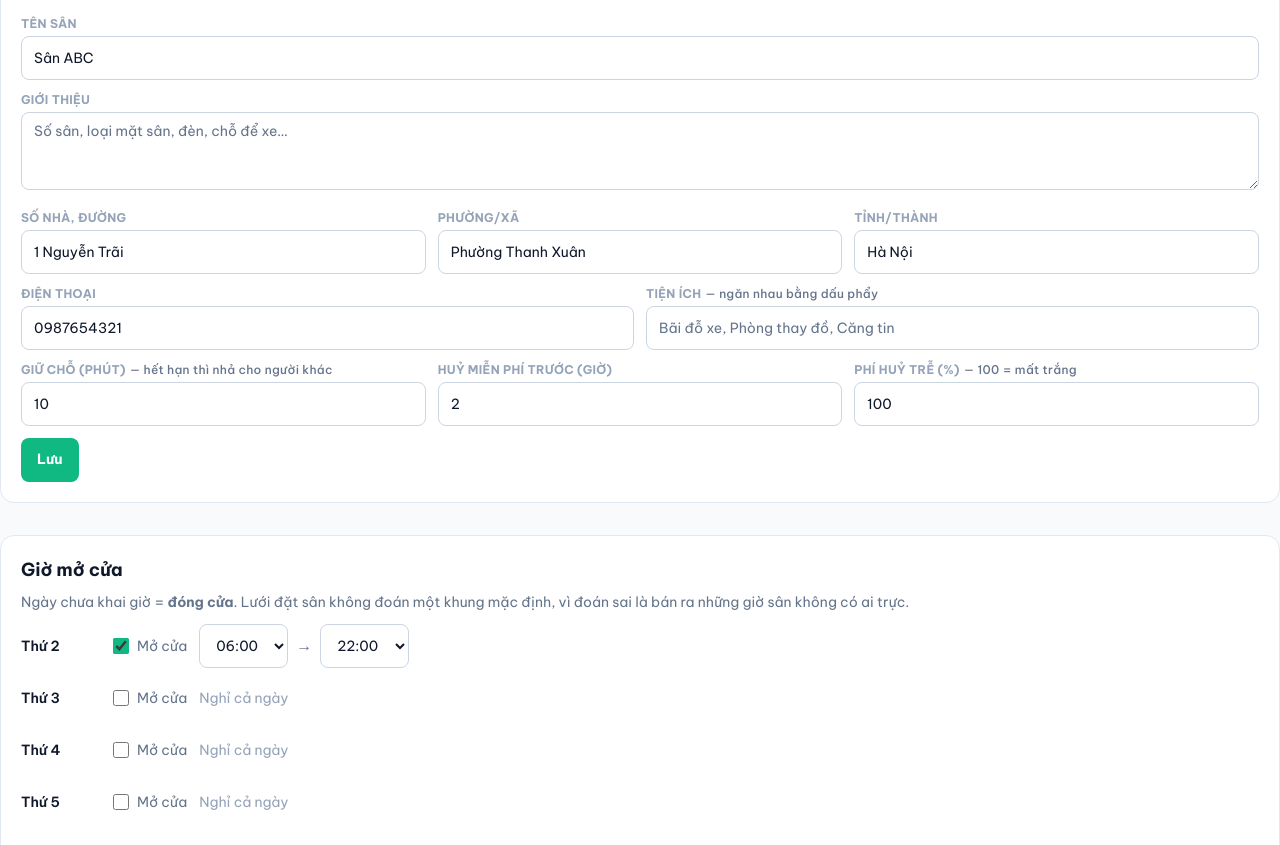
Scenario: giờ mở cửa — ngày chưa khai › lưu giờ báo lỗi thì ngày vừa bật mở cửa vẫn đang mở
Click the checkbox labelled "Mở cửa" next to "Thứ 3" at (121, 698), box [113,690,129,706]
(page scrolled)
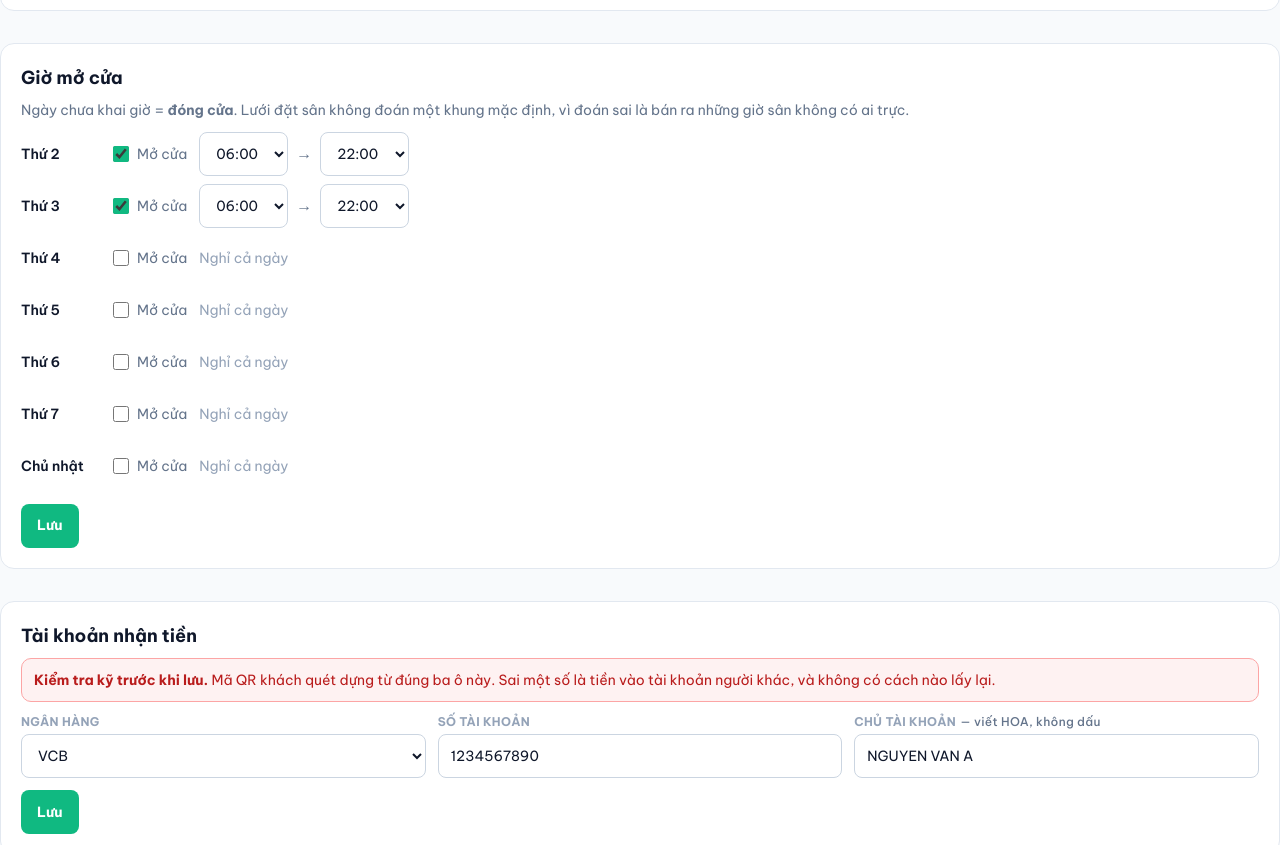
Submit the form "Lưu", box [21,504,78,548]
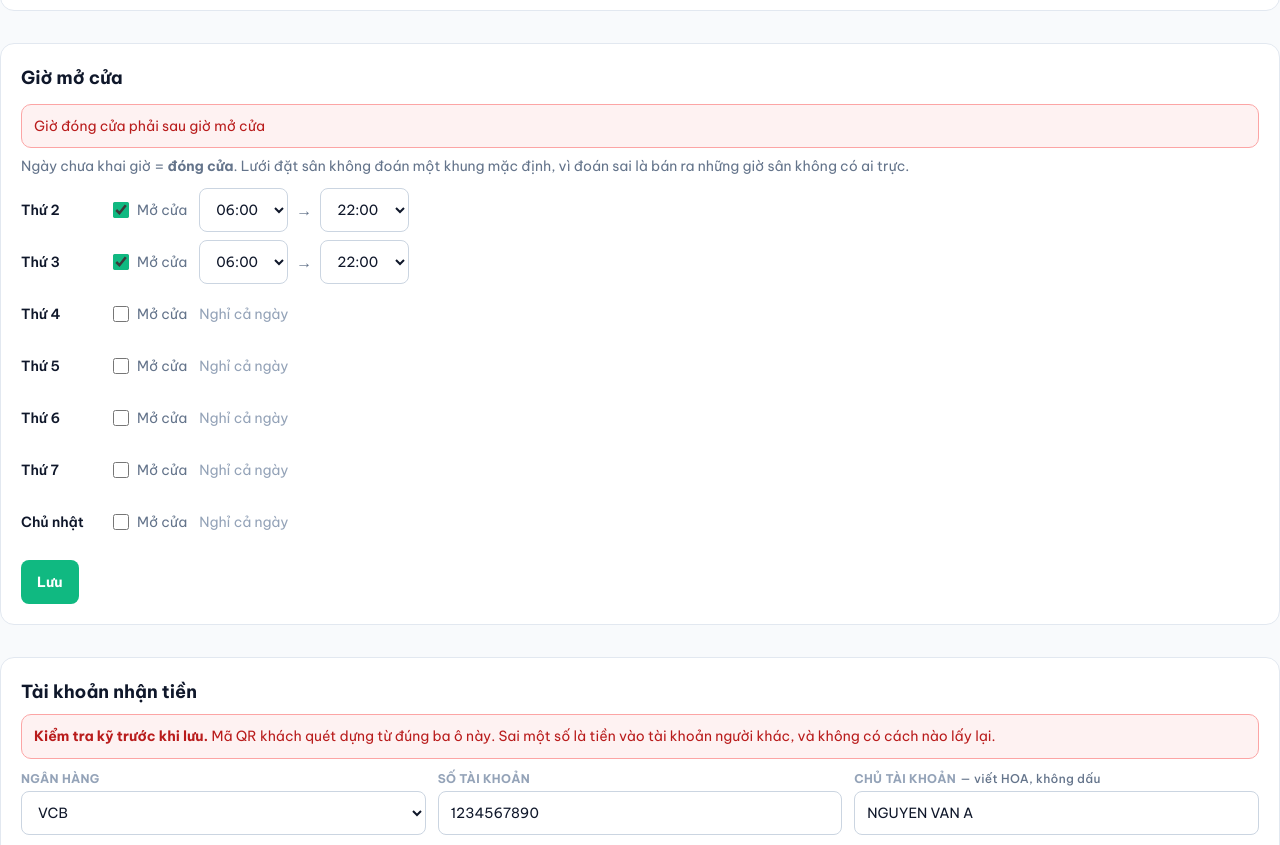
Now the checkbox labelled "Mở cửa" next to "Thứ 3" is checked, box [113,254,129,270]
Now the text "Nghỉ cả ngày" is shown 5 times, box [199,304,288,324]; [199,356,288,376]; [199,408,288,428]; [199,460,288,480]; [199,512,288,532]
Now the message shows "Giờ đóng cửa", box [34,117,265,135]
